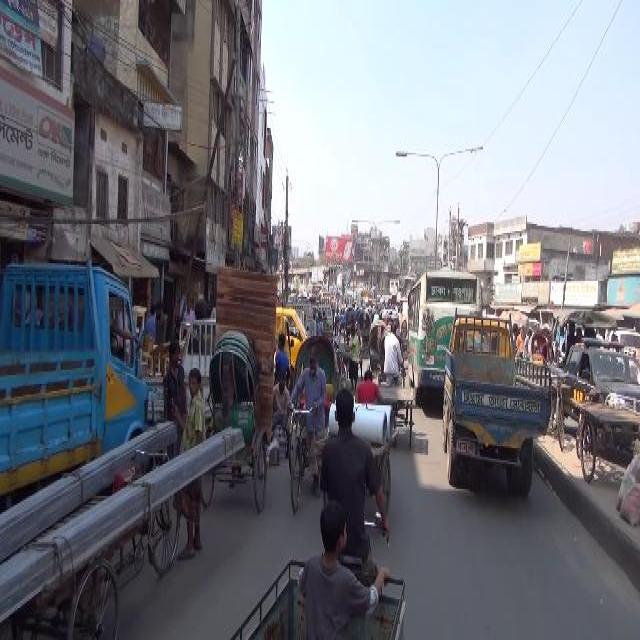bus: (402, 269, 482, 403)
pickup: (0, 256, 150, 519), (438, 309, 554, 505)
rickshaw: (200, 330, 270, 516), (286, 331, 338, 519), (528, 329, 554, 364), (356, 308, 370, 353)
wheelbarrow: (568, 393, 636, 489), (368, 367, 418, 458)
